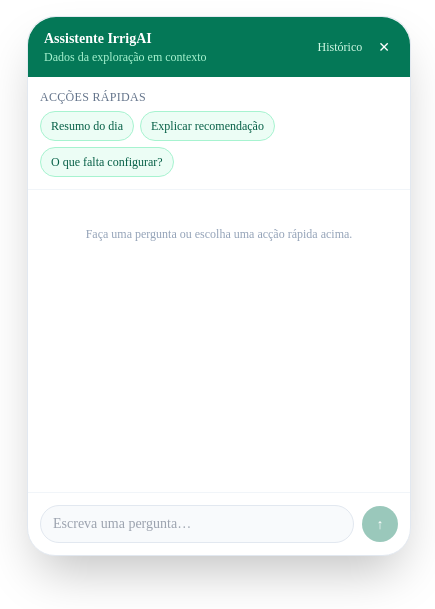
it: ChatPanel › pilot-readiness fixes (review 2026-09-23) › lists only conversations in the current scope
Click the button with aria-label "Conversas anteriores". click: point(340, 47)
box: [310,35,370,59]
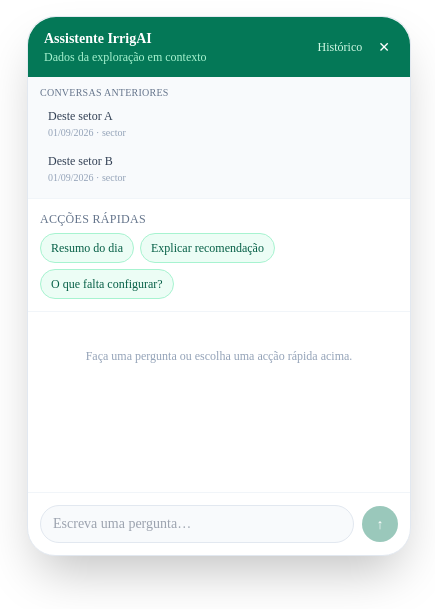
Now the text "Deste setor B" is shown, box [48,154,113,168]
